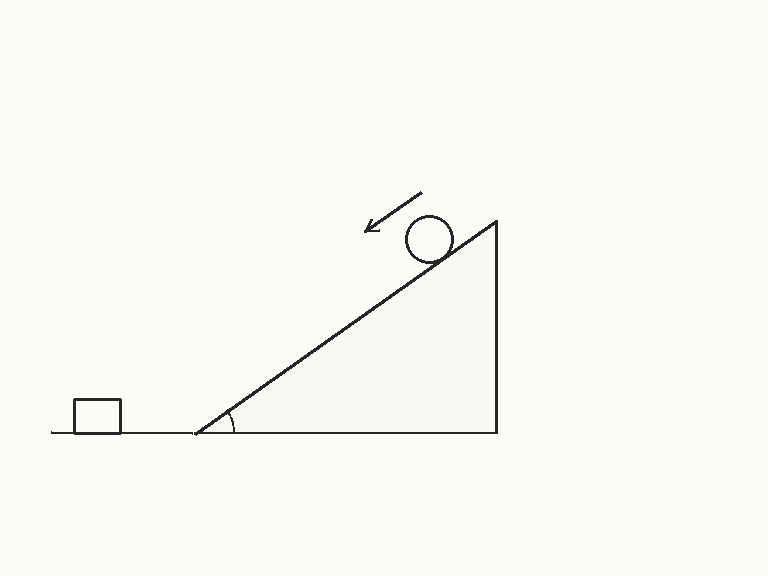ball: (403, 213, 455, 265)
block: (72, 397, 122, 435)
ramp: (192, 219, 499, 435)
